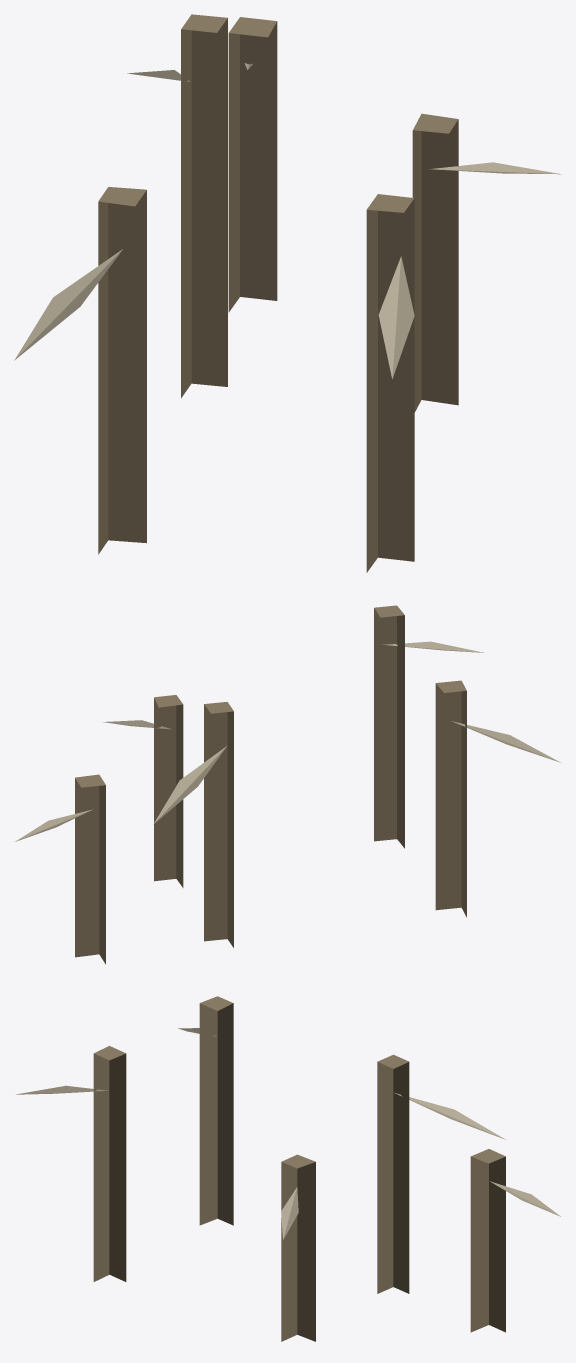
File: shui.luweidang@withered__autumn.glb
3 views of the same model, one above another, from view 1: azimuth 30°, elevation 25°; view 2: azimuth 150°, elevation 25°; view 3: azimuth 270°, elevation 25° (orthographic). The views are drawn at different scales.
Parts seen in each view (by area): view 1: shui.luweidang@withered__autumn; view 2: shui.luweidang@withered__autumn; view 3: shui.luweidang@withered__autumn.
Boxes of the visible parts, bbox=[...] form: shui.luweidang@withered__autumn: bbox=[14, 14, 561, 572]; shui.luweidang@withered__autumn: bbox=[15, 605, 560, 964]; shui.luweidang@withered__autumn: bbox=[16, 996, 560, 1341].
Size of the model in its own units: 2.11 by 1.18 by 2.52.
